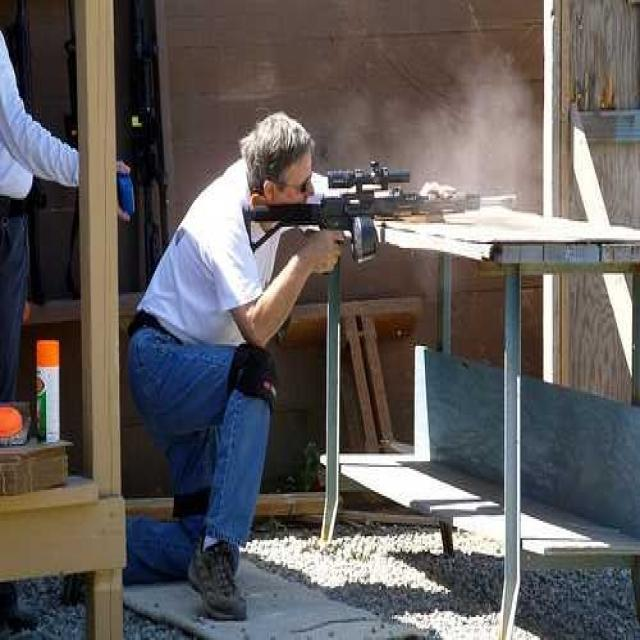heavyweapon: (230, 149, 539, 280)
